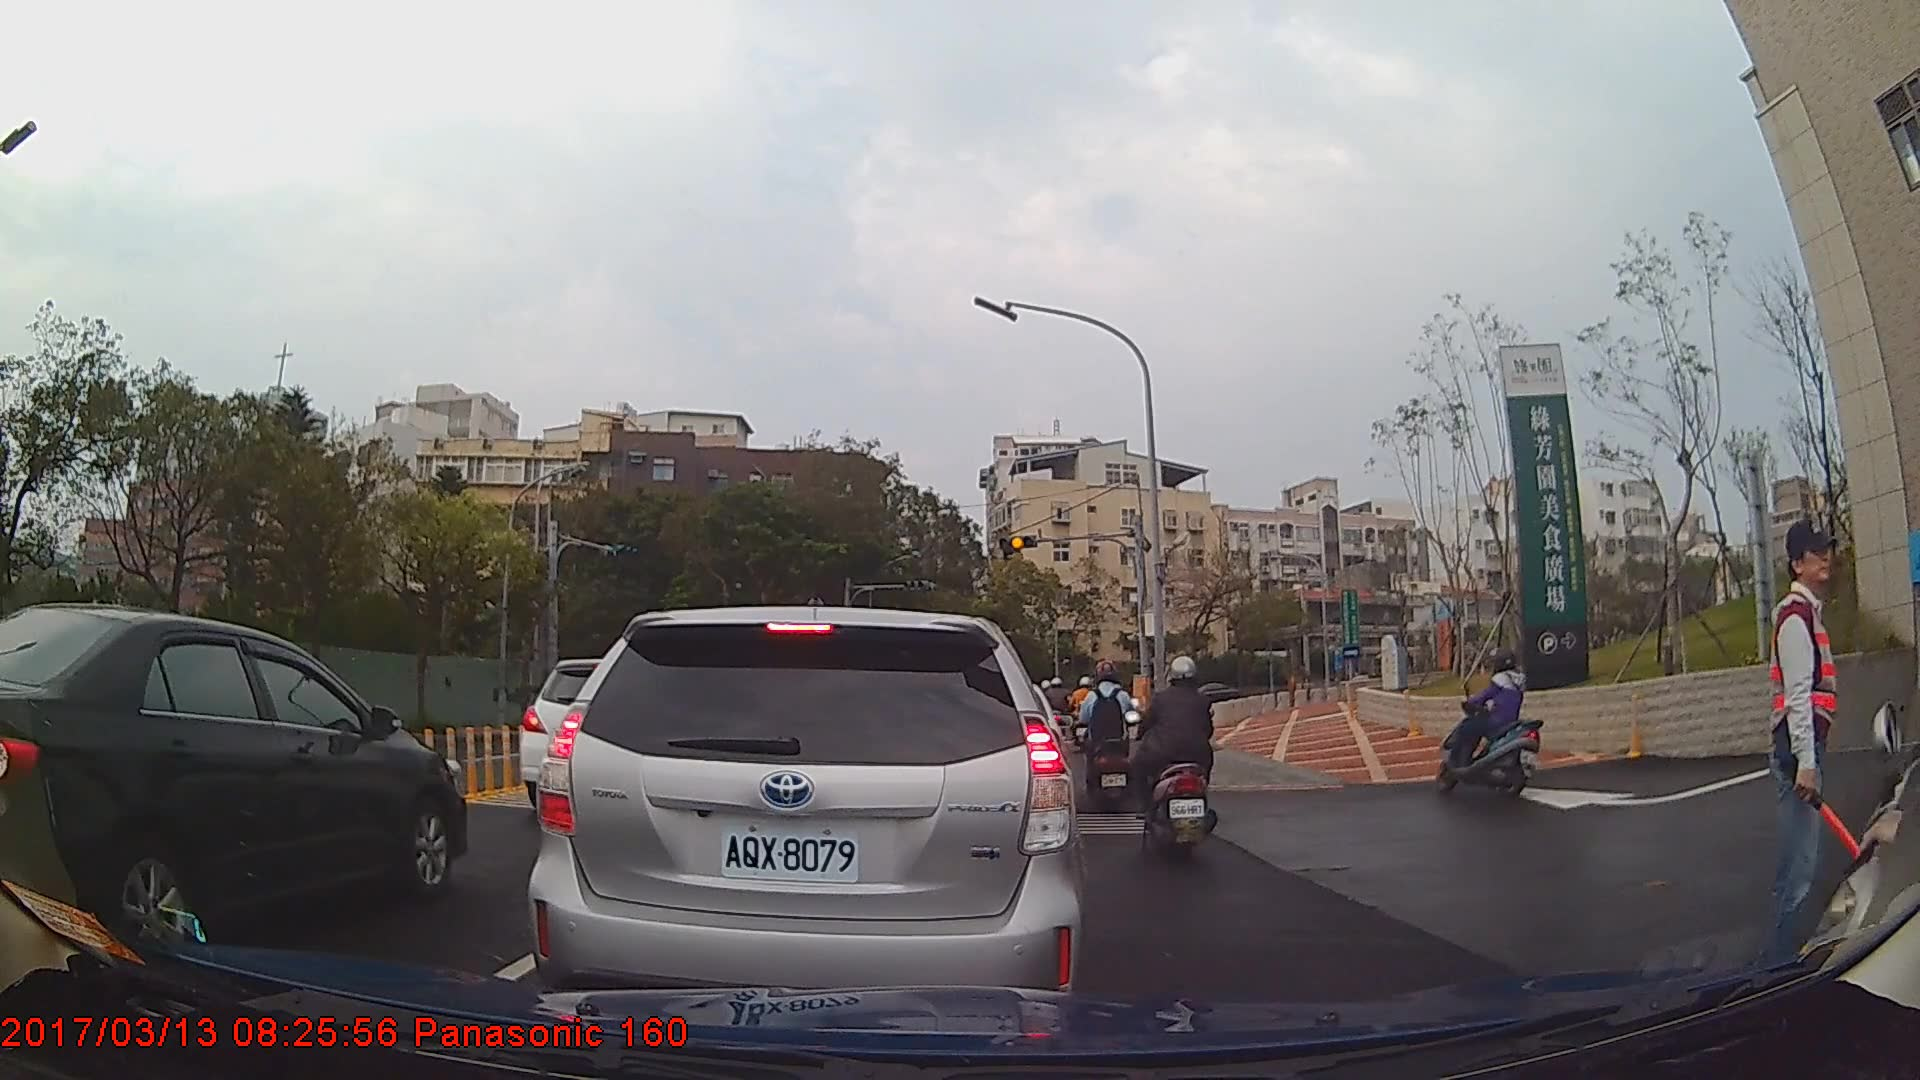pedestrian: (1763, 516, 1870, 970)
rider: (1130, 655, 1215, 860), (1436, 649, 1547, 800), (1078, 656, 1139, 817), (1069, 674, 1102, 752)
vehicle: (527, 602, 1080, 1035), (0, 602, 468, 956)
